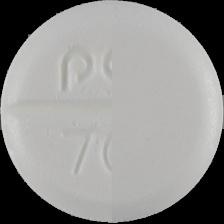50090-0678: (0, 0, 224, 224)
